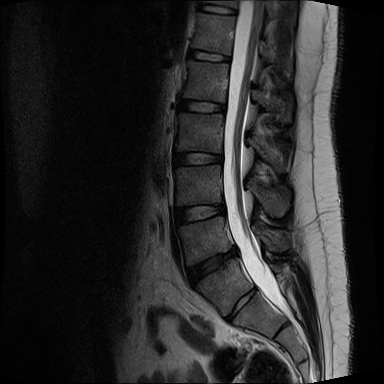Degenerative Disc Disease DDD: (176, 238, 242, 292)
Lumbar Disc Bulge LDB: (183, 243, 246, 286)
Normal IVD: (166, 192, 229, 230), (174, 96, 228, 119), (179, 45, 235, 67), (168, 146, 226, 167), (196, 2, 241, 18)
Spinal Stenosis SS: (228, 233, 252, 267)
